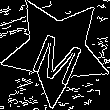M_NE: (26, 19, 87, 83)
